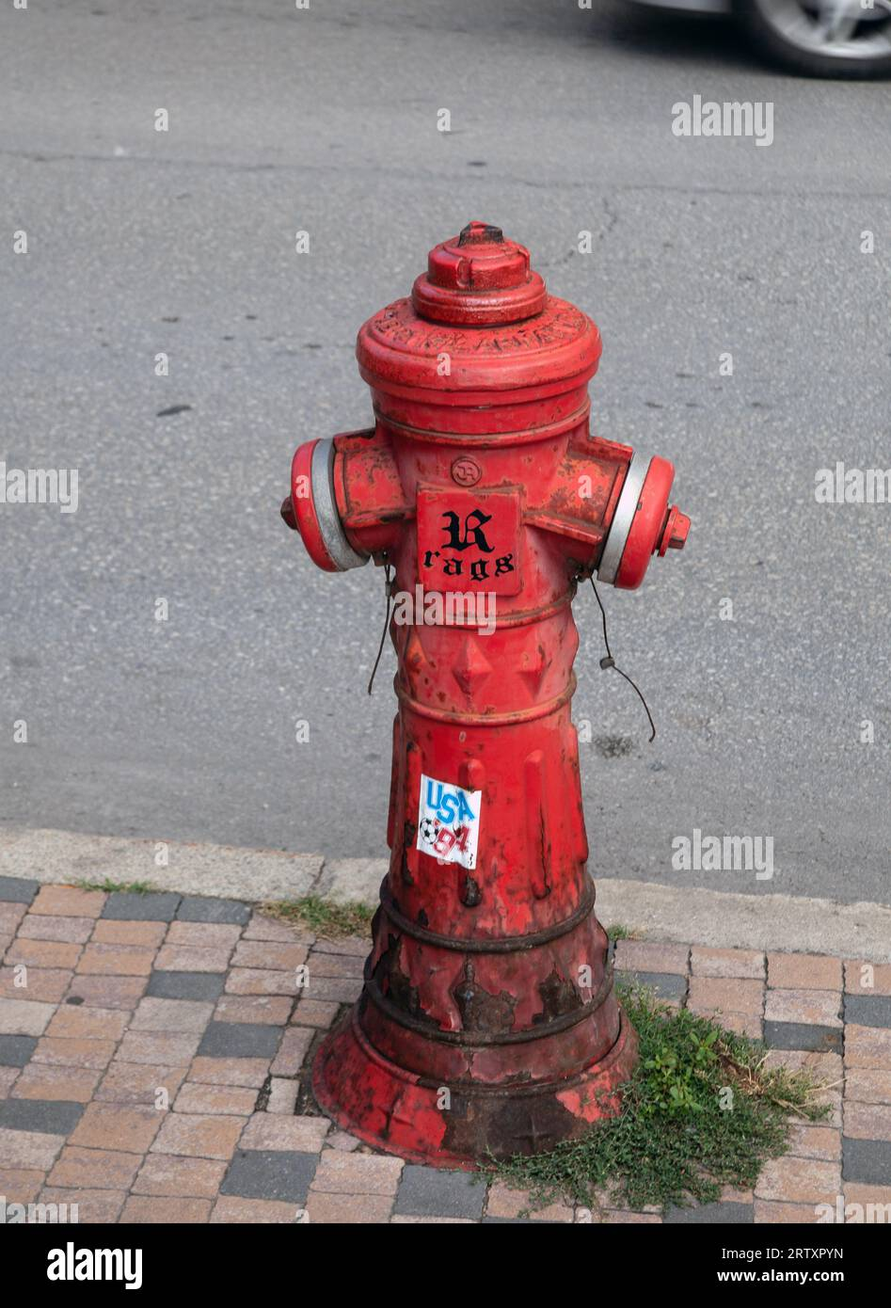FireHydrant: (231, 209, 752, 1171)
